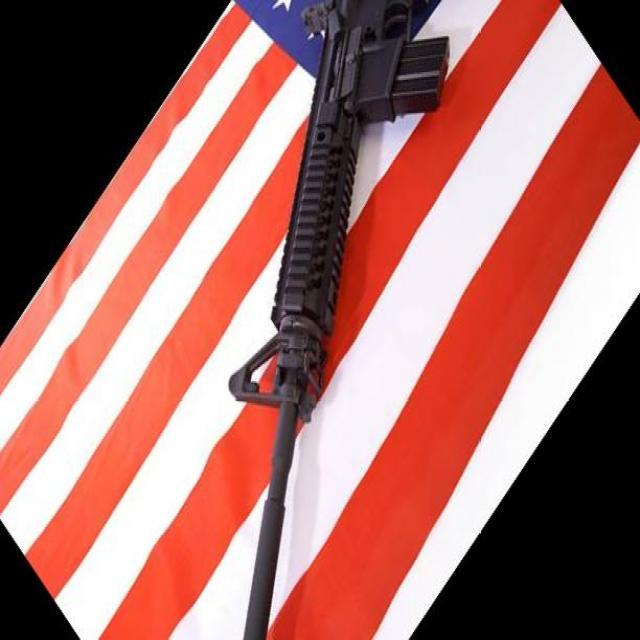weapon: (228, 0, 451, 640)
